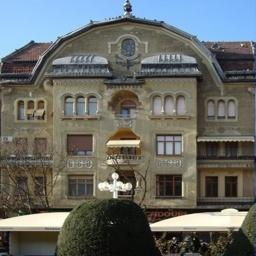building: (0, 1, 256, 209)
